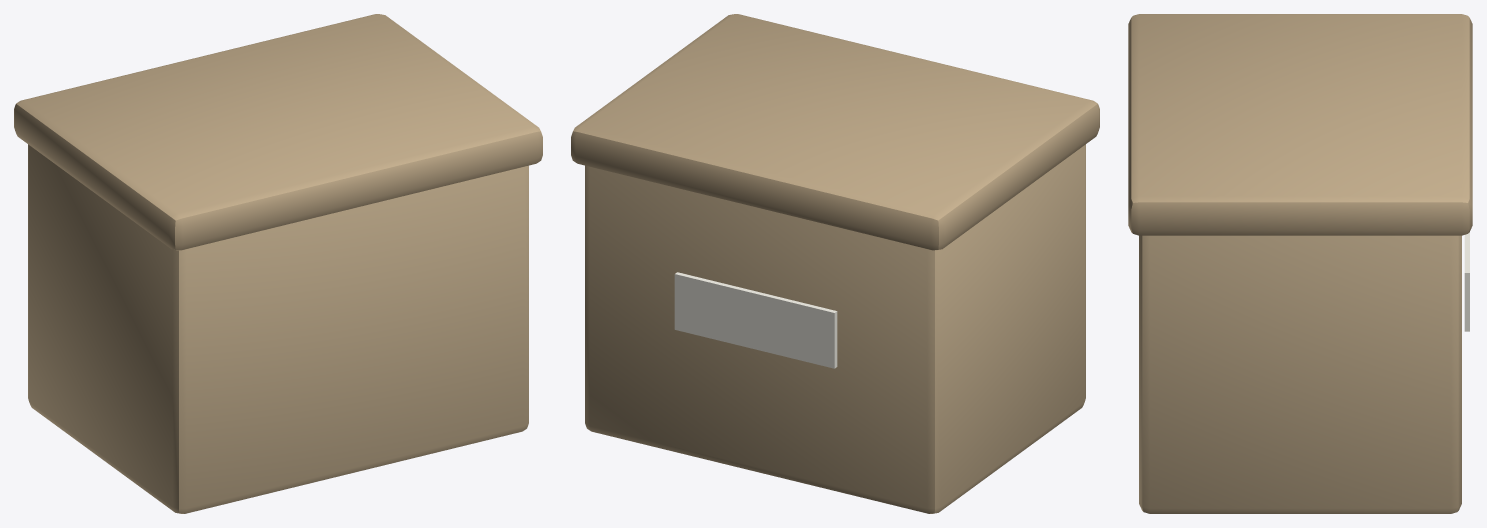
The model's file is sd_caixa_arquivo.glb.
3 views of the same model, side by side, from view 1: azimuth 30°, elevation 25°; view 2: azimuth 150°, elevation 25°; view 3: azimuth 270°, elevation 25° (orthographic). The views are drawn at different scales.
Parts seen in each view (by area): view 1: Cube; view 2: Cube; view 3: Cube.
Boxes of the visible parts, x1,y1,x2,y2 form: Cube: [14, 14, 542, 513]; Cube: [571, 14, 1099, 513]; Cube: [1128, 14, 1472, 513].
Bounding box in the file's own units: 0.42 × 0.33 × 0.32.
